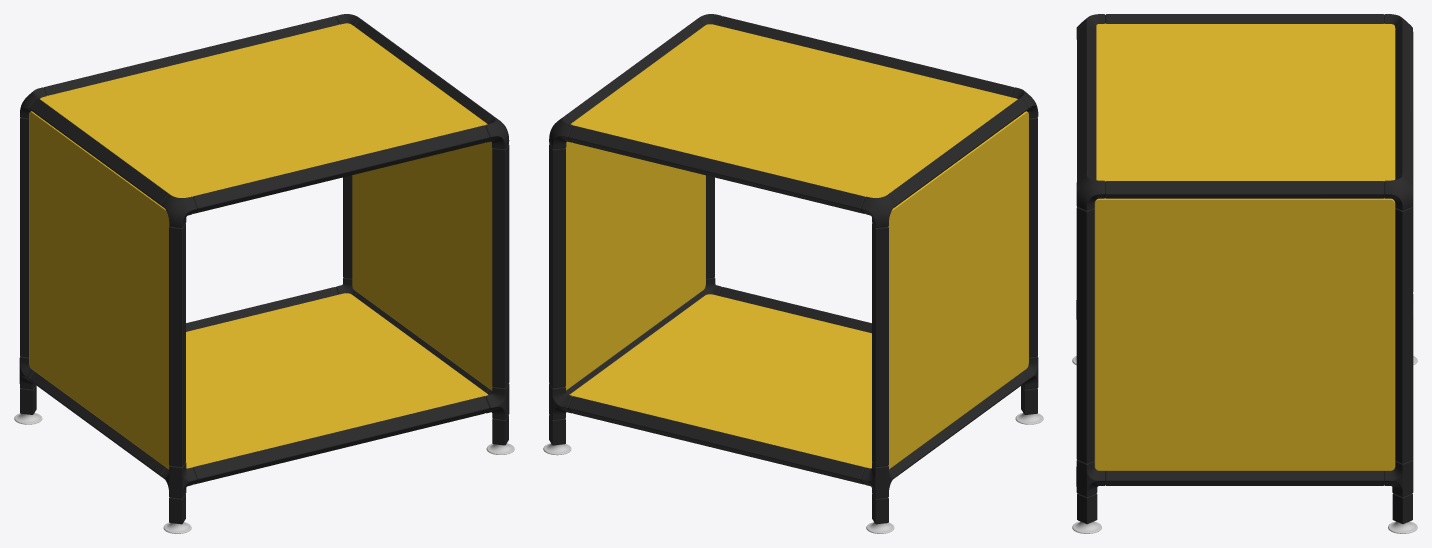
The picture shows the model from 3 angles, left to right: view 1: azimuth 30°, elevation 25°; view 2: azimuth 150°, elevation 25°; view 3: azimuth 270°, elevation 25°; orthographic projection. The views are drawn at different scales.
Visible parts, largest first — view 1: 479x374x374; view 2: 479x374x374; view 3: 479x374x374.
Part boxes in pixels (left/top/right/bottom): 479x374x374: left=14, top=14, right=514, bottom=533; 479x374x374: left=543, top=14, right=1043, bottom=533; 479x374x374: left=1072, top=14, right=1417, bottom=533.
Size of the model in its own units: 0.5689 by 0.5133 by 0.4632.
